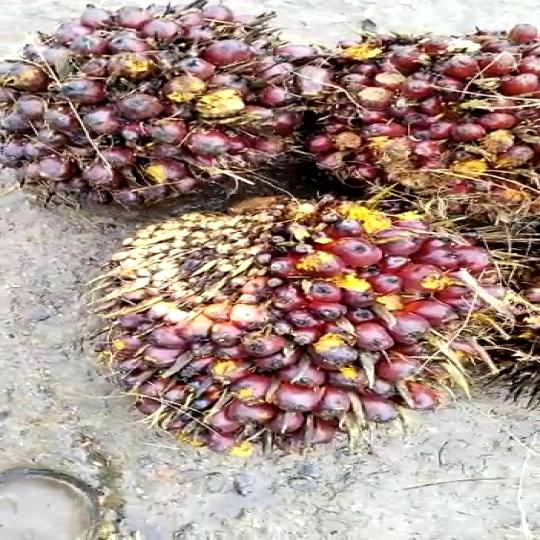masak: (93, 192, 510, 475), (0, 0, 310, 226)
